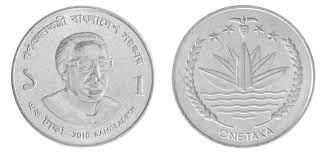1_takar_coin: (10, 3, 155, 147), (170, 5, 315, 149)
